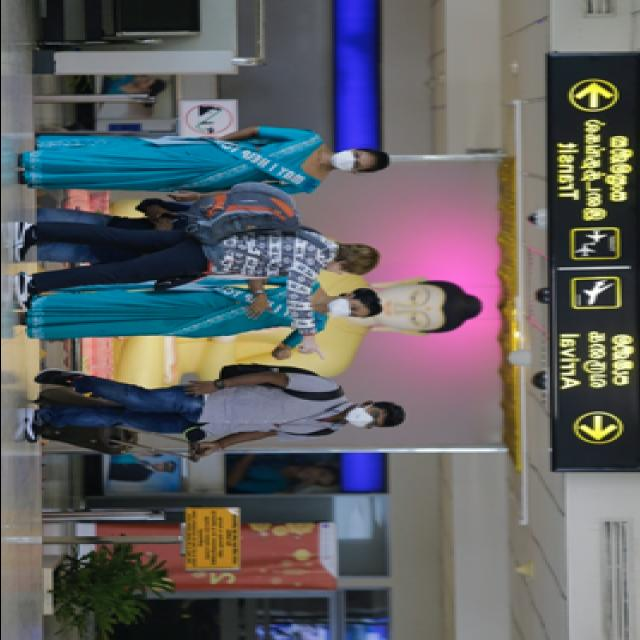with_mask: (346, 405, 384, 429), (331, 149, 367, 171), (328, 299, 362, 317)
without_mask: (321, 256, 357, 277)
